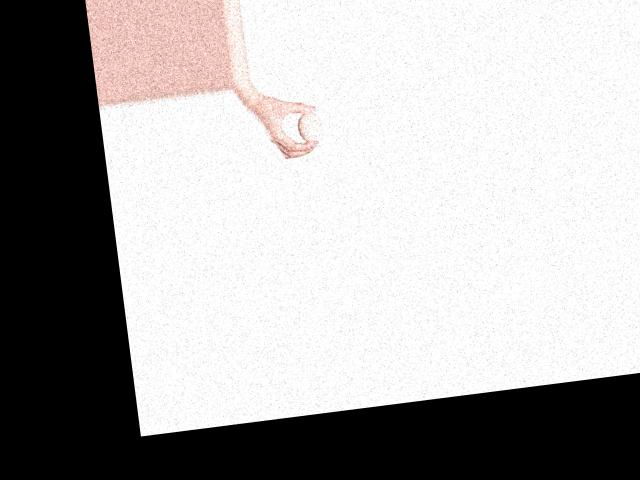egg: (296, 110, 322, 143)
